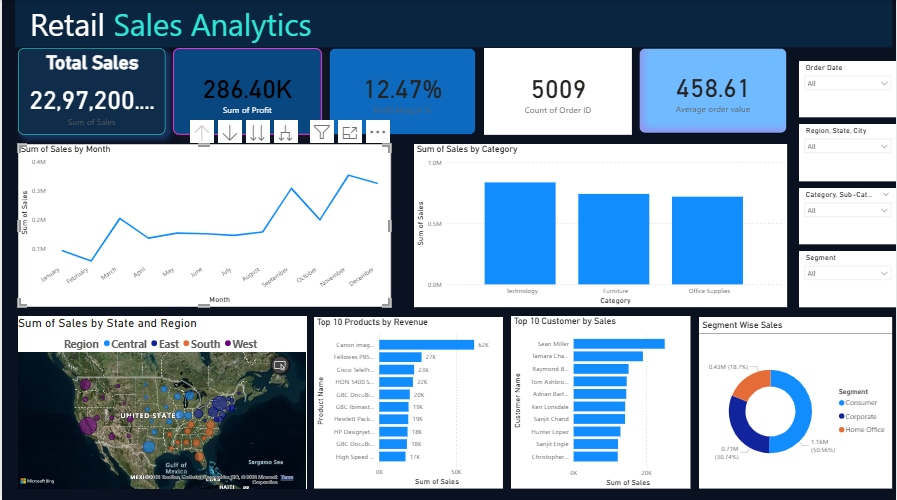

The page's visual inventory and layout, read from the dashboard file:
{"tool":"powerbi","page":{"name":"Page 1","canvas":[1700,950],"ordinal":0},"visuals":[{"type":"card","title":"Total Sales","fields":{"Values":["Sum(Orders.Sales)"]},"box":[30.4,91.2,280.4,165],"z":0},{"type":"card","fields":{"Values":["Sum(Orders.Profit)"]},"box":[324.8,91.2,283.1,165.3],"z":1000},{"type":"card","fields":{"Values":["Count(Orders.Order ID)"]},"box":[915.1,91.2,281.2,165.3],"z":2000},{"type":"card","fields":{"Values":["Orders.Profit Margin %"]},"box":[621.9,91.2,279.3,165.3],"z":3000},{"type":"clusteredColumnChart","fields":{"Category":["Orders.Category"],"Y":["Sum(Orders.Sales)"]},"box":[782.8,273.6,708.7,309.7],"z":4000},{"type":"shape","box":[23.9,0,1667,90],"z":5000},{"type":"lineChart","fields":{"Category":["Orders.Order Date.Variation.Date Hierarchy.Month","Orders.Order Date.Variation.Date Hierarchy.Day"],"Y":["Sum(Orders.Sales)"]},"box":[30.4,273.9,709,308.7],"z":6000},{"type":"card","fields":{"Values":["Orders.Average order value"]},"box":[1210.3,91.2,281.2,161.5],"z":7000},{"type":"clusteredBarChart","title":"Top 10 Products by Revenue","fields":{"Category":["Orders.Product Name"],"Y":["Sum(Orders.Sales)"]},"box":[593.5,602.2,358.7,326.1],"z":8000},{"type":"clusteredBarChart","title":"Top 10 Customer by Sales","fields":{"Category":["Orders.Customer Name"],"Y":["Sum(Orders.Sales)"]},"box":[967.4,600,341.3,328.3],"z":9000},{"type":"donutChart","title":"Segment Wise Sales","fields":{"Category":["Orders.Segment"],"Y":["Sum(Orders.Sales)"]},"box":[1323.9,602.2,367.4,326.1],"z":10000},{"type":"slicer","fields":{"Values":["Orders.Region","Orders.State","Orders.City"]},"box":[1515.2,235.1,184.8,108.7],"z":11000},{"type":"slicer","fields":{"Values":["Orders.Segment"]},"box":[1515.2,476.1,184.8,106.5],"z":12000},{"type":"slicer","fields":{"Values":["Orders.Category","Orders.Sub-Category"]},"box":[1515.2,356.7,184.8,106.5],"z":13000},{"type":"slicer","fields":{"Values":["Orders.Order Date"]},"box":[1515,115.2,185,107],"z":14000},{"type":"map","fields":{"Category":["Orders.State"],"Series":["Orders.Region"],"Size":["Sum(Orders.Sales)"]},"box":[30.4,600,547.8,328.3],"z":15000},{"type":"textbox","box":[30.4,0,1573.9,91.3],"z":16000}]}

Visuals, with their boxes in screenshot pixels (x1, y1, x2, y2), scaled from the page's 1700x950 canvas onto the 897x500 screenshot:
"Total Sales" card: <region>16, 48, 164, 135</region>
card - Sum(Orders.Profit): <region>171, 48, 321, 135</region>
card - Count(Orders.Order ID): <region>483, 48, 631, 135</region>
card - Orders.Profit Margin %: <region>328, 48, 476, 135</region>
clusteredColumnChart - Orders.Category x Sum(Orders.Sales): <region>413, 144, 787, 307</region>
shape: <region>13, 0, 892, 47</region>
lineChart - Orders.Order Date.Variation.Date Hierarchy.Month x Orders.Order Date.Variation.Date Hierarchy.Day: <region>16, 144, 390, 307</region>
card - Orders.Average order value: <region>639, 48, 787, 133</region>
"Top 10 Products by Revenue" clusteredBarChart: <region>313, 317, 502, 489</region>
"Top 10 Customer by Sales" clusteredBarChart: <region>510, 316, 691, 489</region>
"Segment Wise Sales" donutChart: <region>699, 317, 892, 489</region>
slicer - Orders.Region x Orders.State: <region>799, 124, 896, 181</region>
slicer - Orders.Segment: <region>799, 251, 896, 307</region>
slicer - Orders.Category x Orders.Sub-Category: <region>799, 188, 896, 244</region>
slicer - Orders.Order Date: <region>799, 61, 896, 117</region>
map - Orders.State x Orders.Region: <region>16, 316, 305, 489</region>
textbox: <region>16, 0, 847, 48</region>
